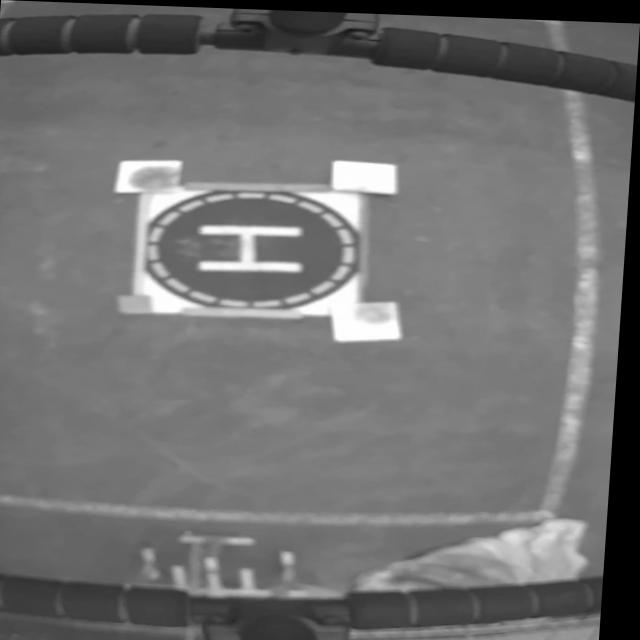Helipad: (199, 223, 308, 271)
